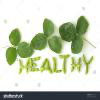Soyabean leaf: (58, 22, 78, 42), (30, 31, 48, 51), (16, 41, 35, 58), (70, 34, 85, 55), (4, 46, 18, 67), (76, 15, 89, 37), (48, 35, 62, 55), (42, 17, 55, 38), (9, 26, 22, 47)
